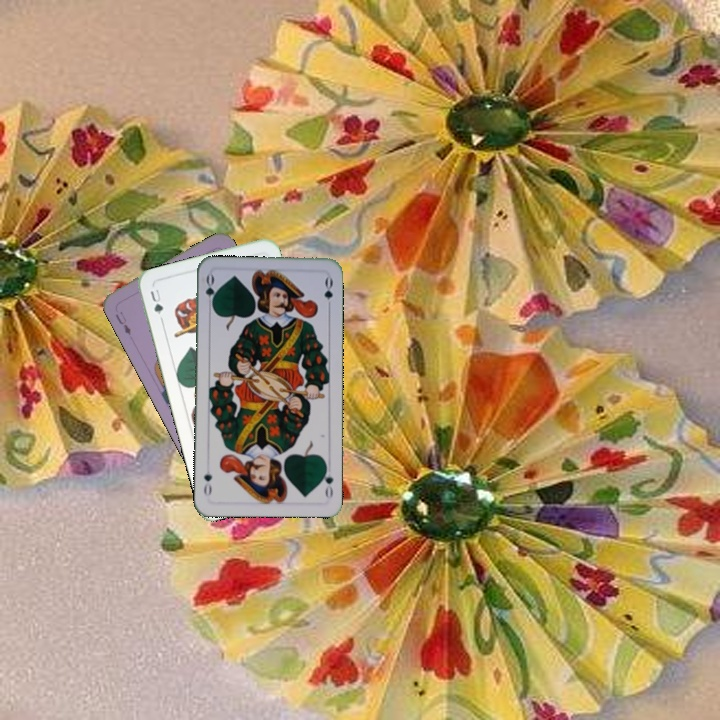EU: (111, 307, 133, 337)
GO: (318, 460, 336, 501), (202, 271, 217, 312)
GU: (146, 285, 166, 317)
